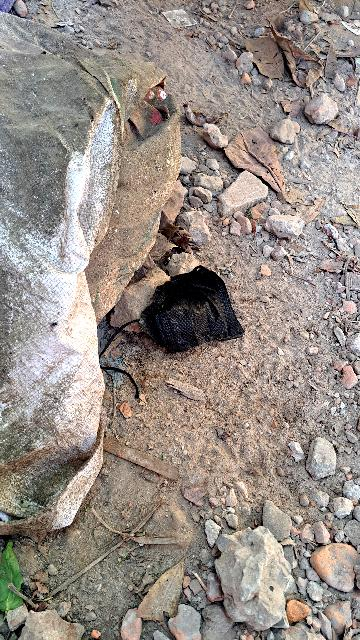mask: (141, 260, 254, 361)
